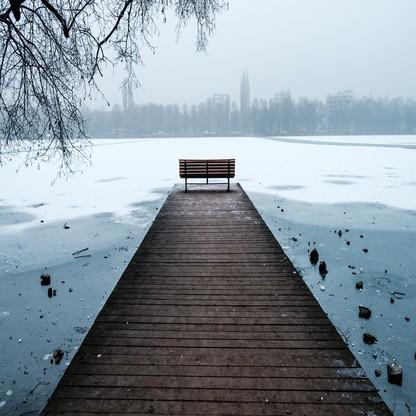obstacle: (173, 152, 244, 192)
